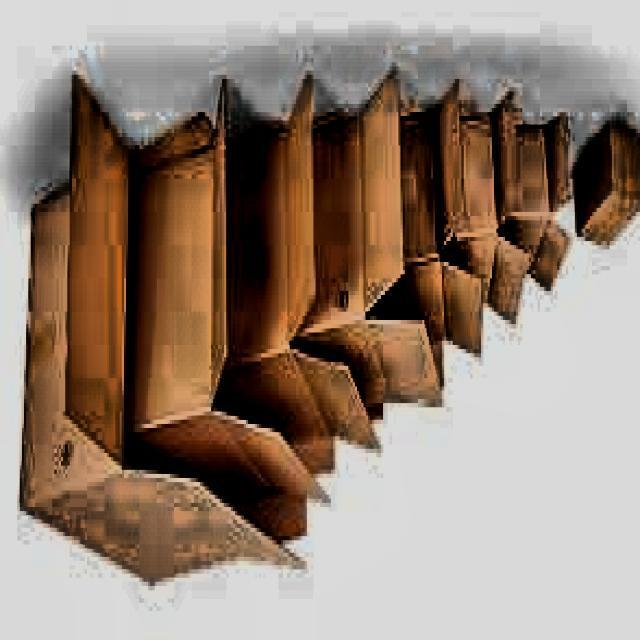cardboard: (17, 70, 640, 590)
